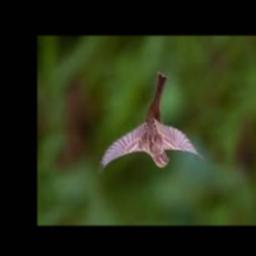Sparrow: (97, 72, 206, 174)
